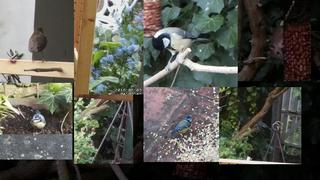blue tit: (170, 114, 192, 135), (30, 110, 46, 134)
great tit: (152, 27, 211, 72)
mouse: (267, 27, 284, 60)
robin: (28, 27, 47, 64)
